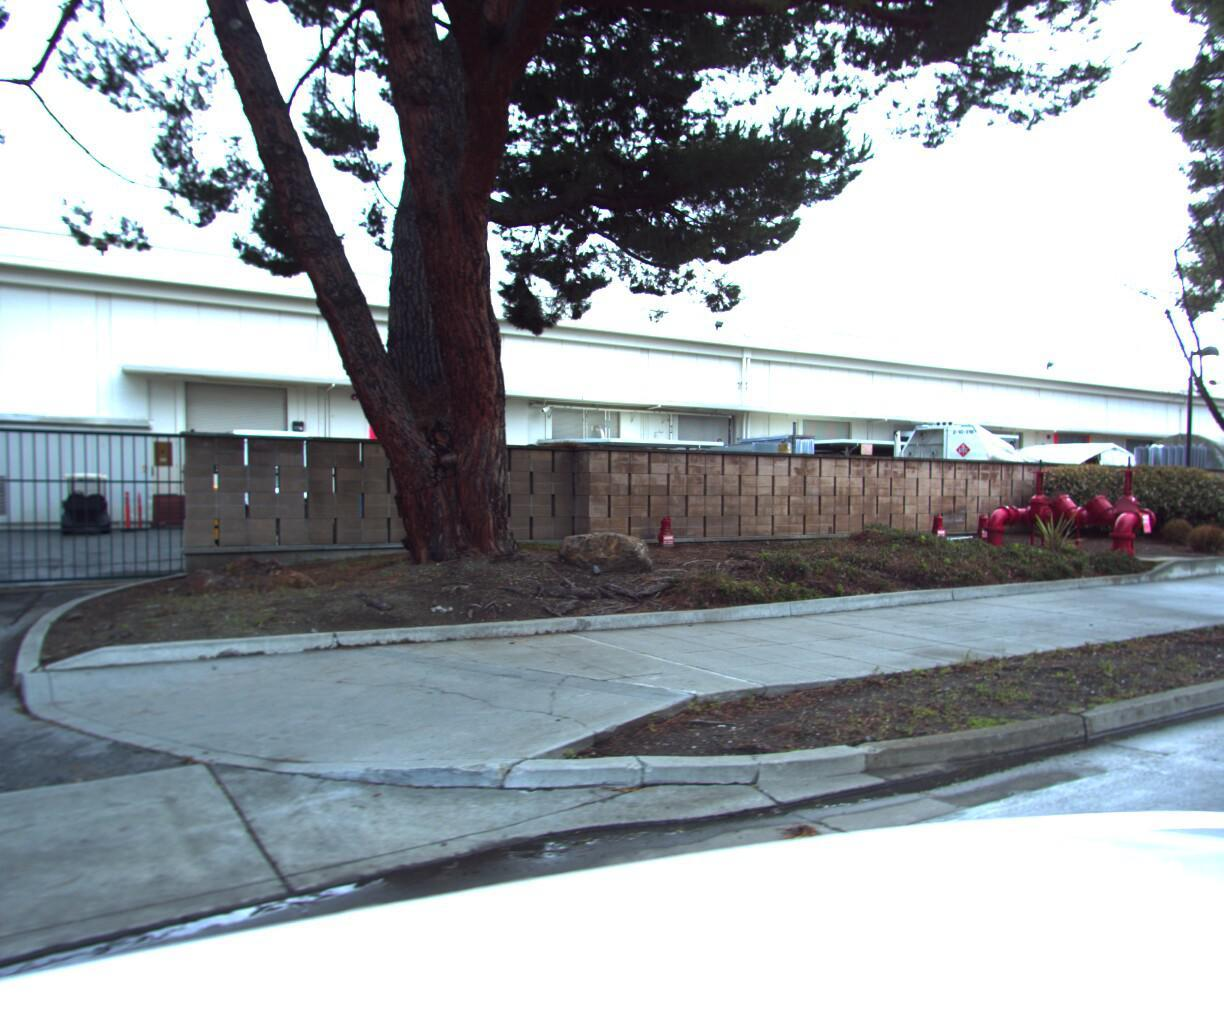truck: (215, 415, 335, 545)
